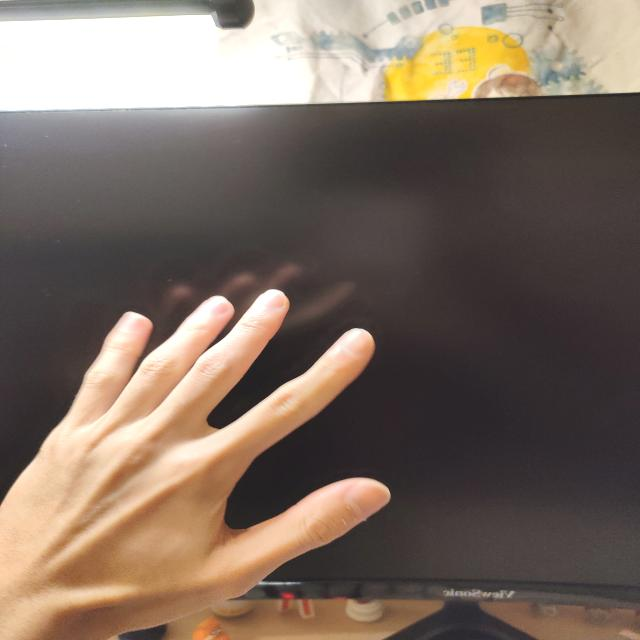no_glove: (0, 271, 417, 640)
